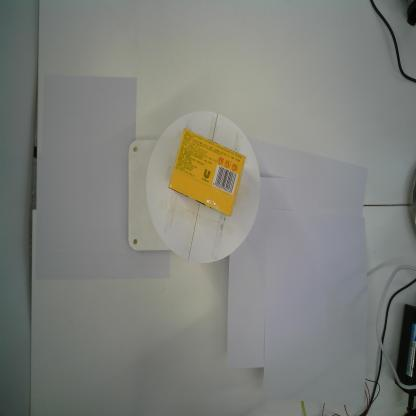Instant Drink: (168, 125, 246, 219)
